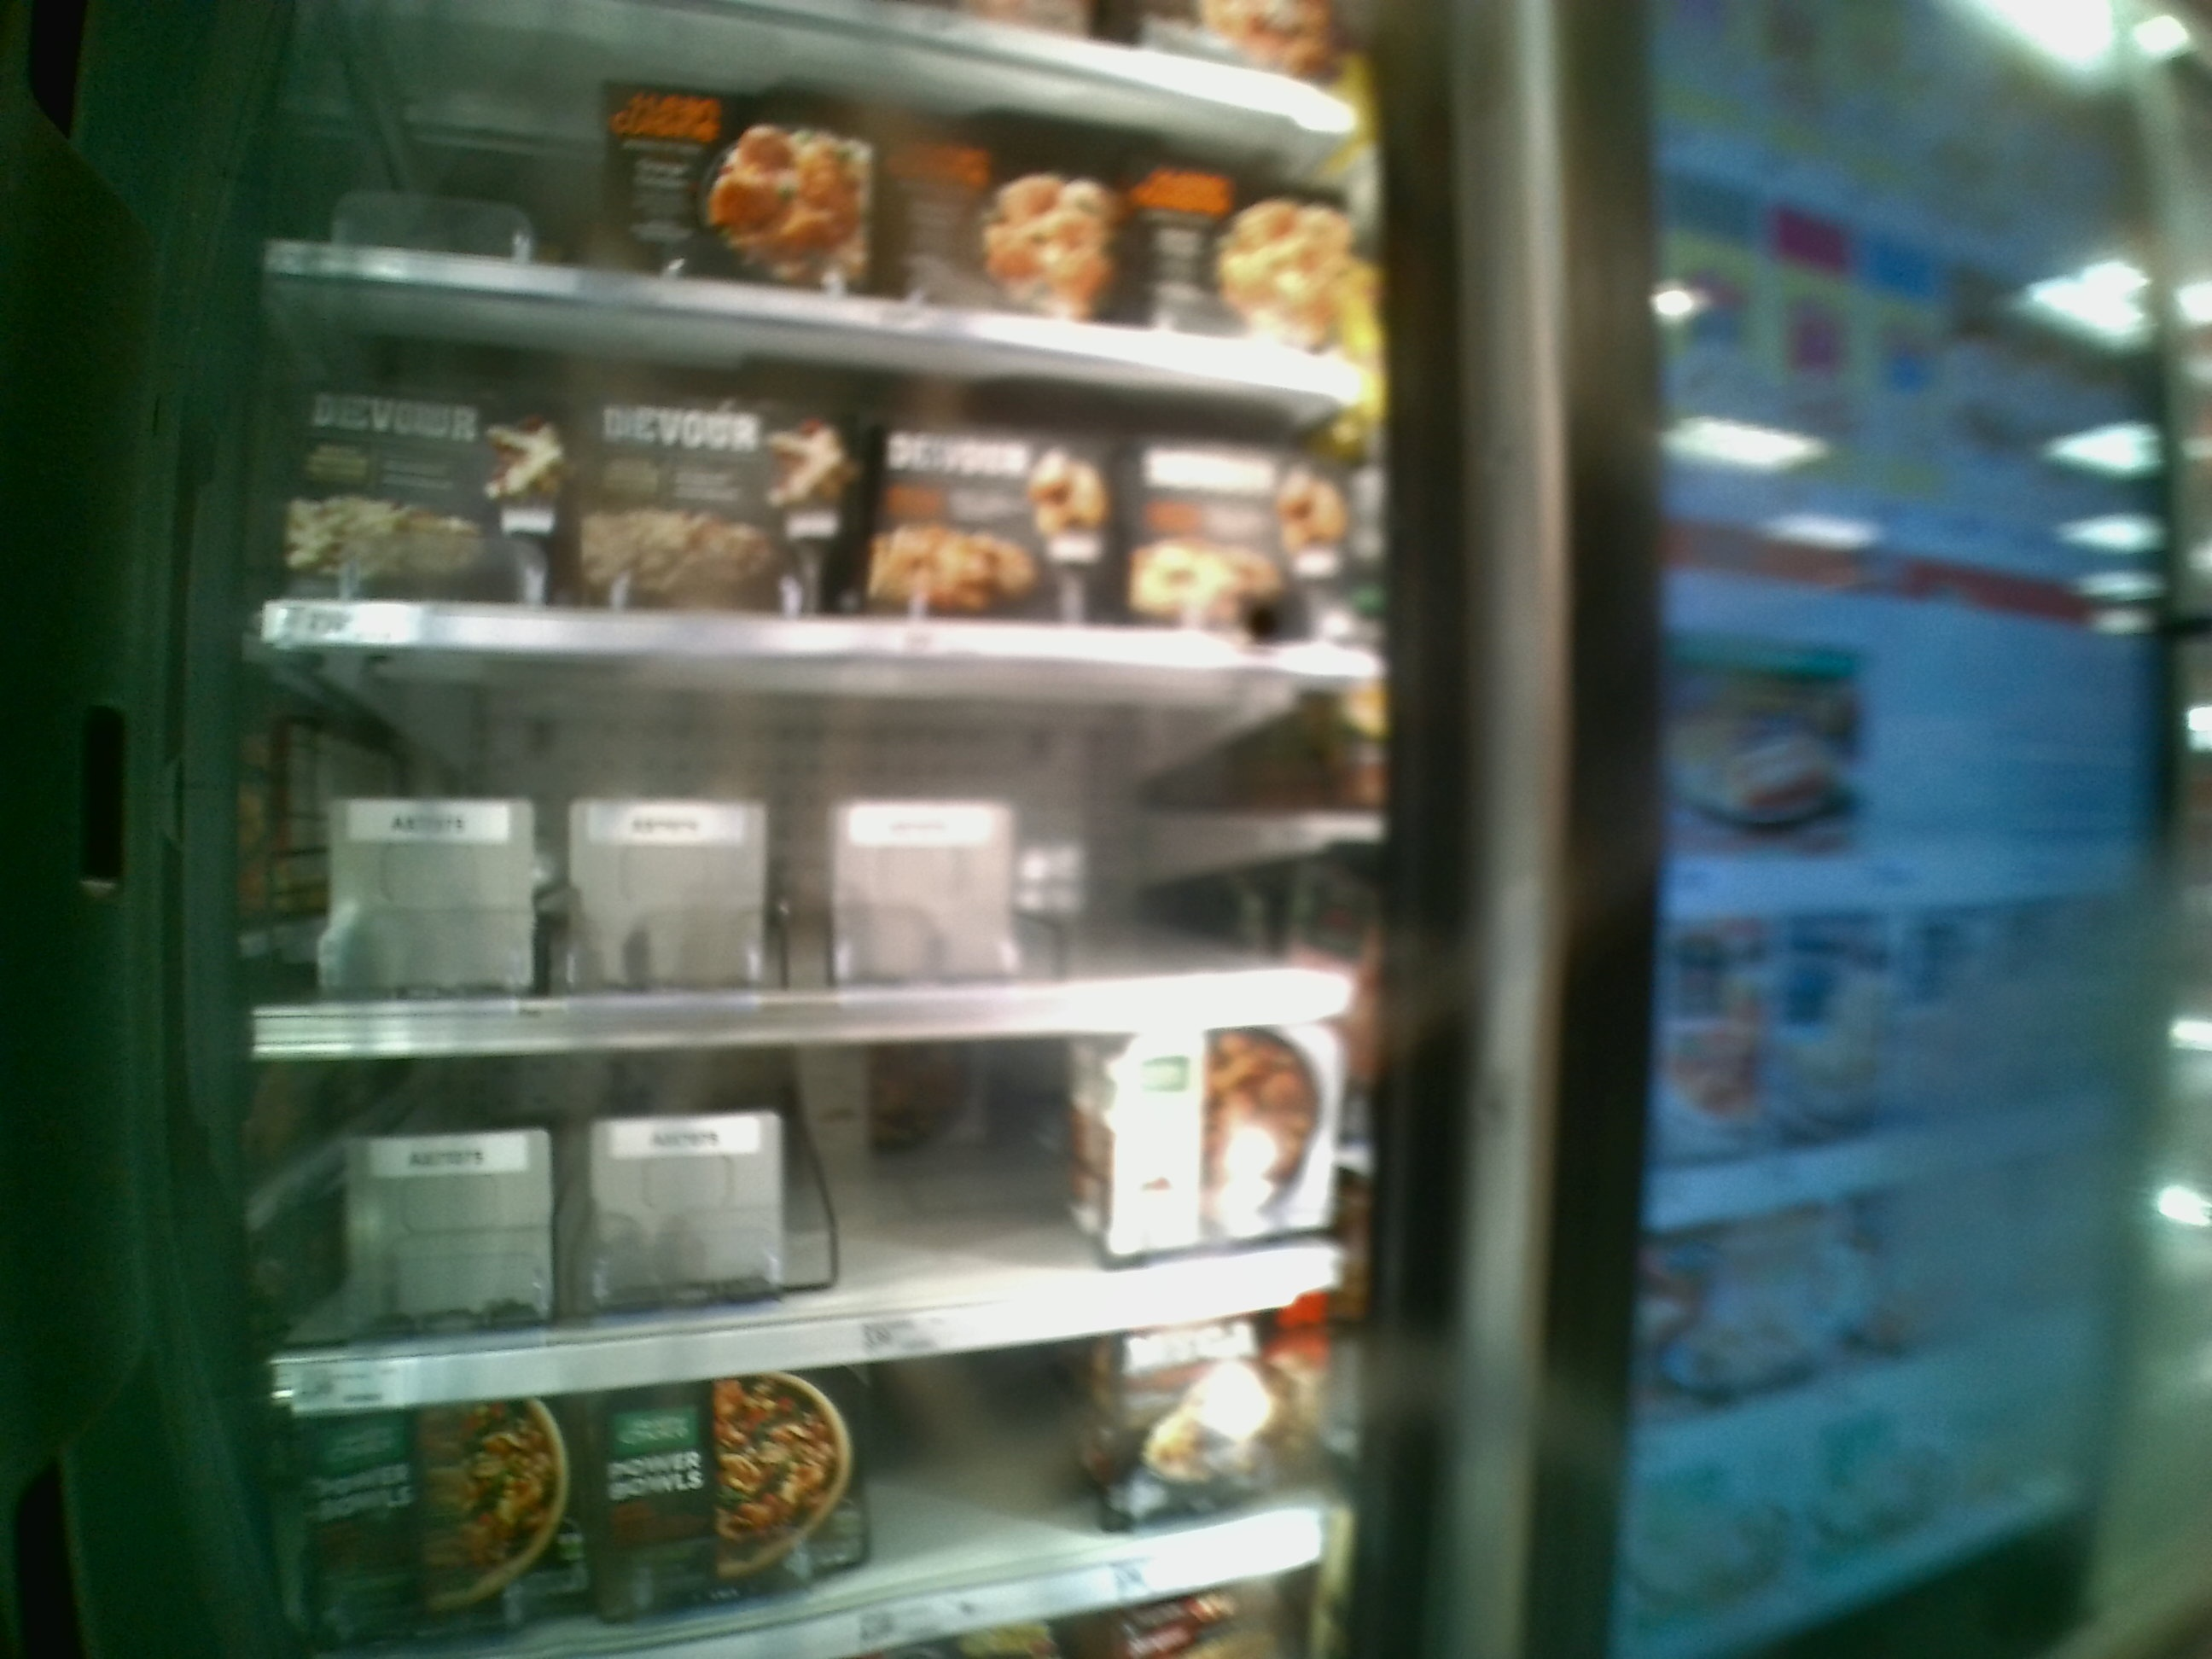Shelf: (240, 647, 1378, 1047), (249, 1025, 1360, 1401)
